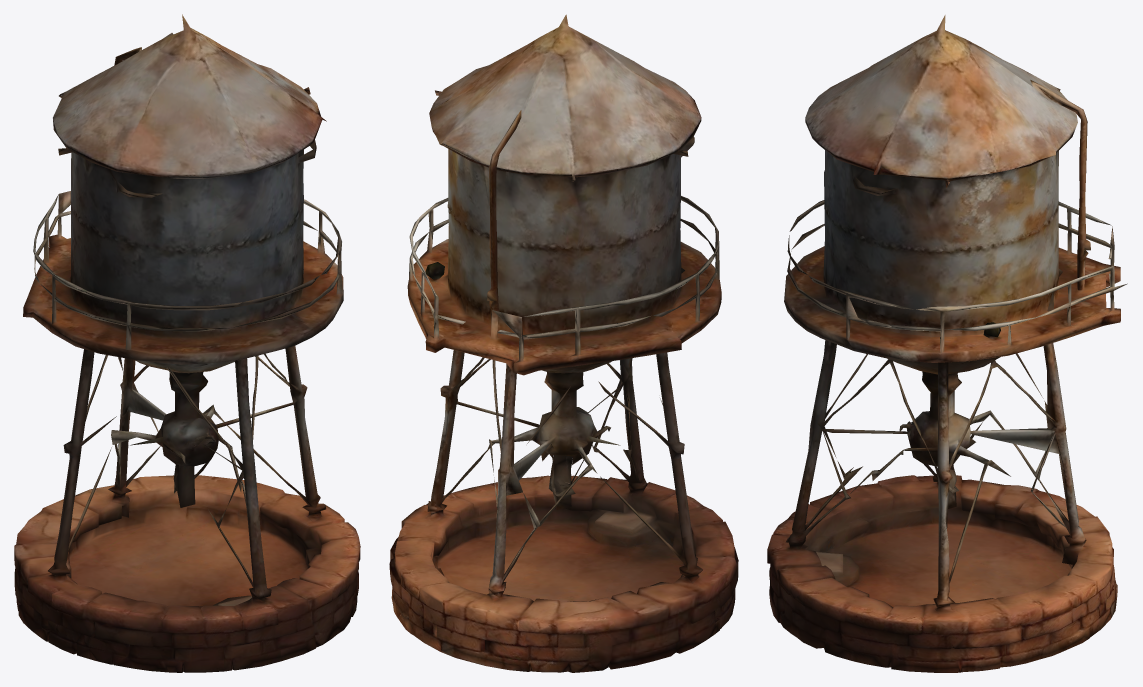
Rendered from ul_water_tower.glb.
3 views of the same model, side by side, from view 1: azimuth 30°, elevation 25°; view 2: azimuth 150°, elevation 25°; view 3: azimuth 270°, elevation 25° (orthographic).
Parts seen in each view (by area): view 1: tripo_node_69759e49-b36f-4cd8-b6ef-ab53e3070f9c; view 2: tripo_node_69759e49-b36f-4cd8-b6ef-ab53e3070f9c; view 3: tripo_node_69759e49-b36f-4cd8-b6ef-ab53e3070f9c.
Boxes of the visible parts, box(x1,y1,x2,y2) form: tripo_node_69759e49-b36f-4cd8-b6ef-ab53e3070f9c: box(14, 14, 360, 672); tripo_node_69759e49-b36f-4cd8-b6ef-ab53e3070f9c: box(389, 14, 738, 672); tripo_node_69759e49-b36f-4cd8-b6ef-ab53e3070f9c: box(767, 15, 1127, 672).
Bounding box in the file's own units: 0.5383 × 1 × 0.5601.
Materials: 1 (1 with a texture image).
